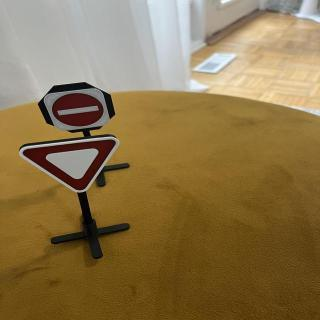sign_noentry: (44, 88, 112, 133)
sign_yield: (19, 136, 122, 195)
